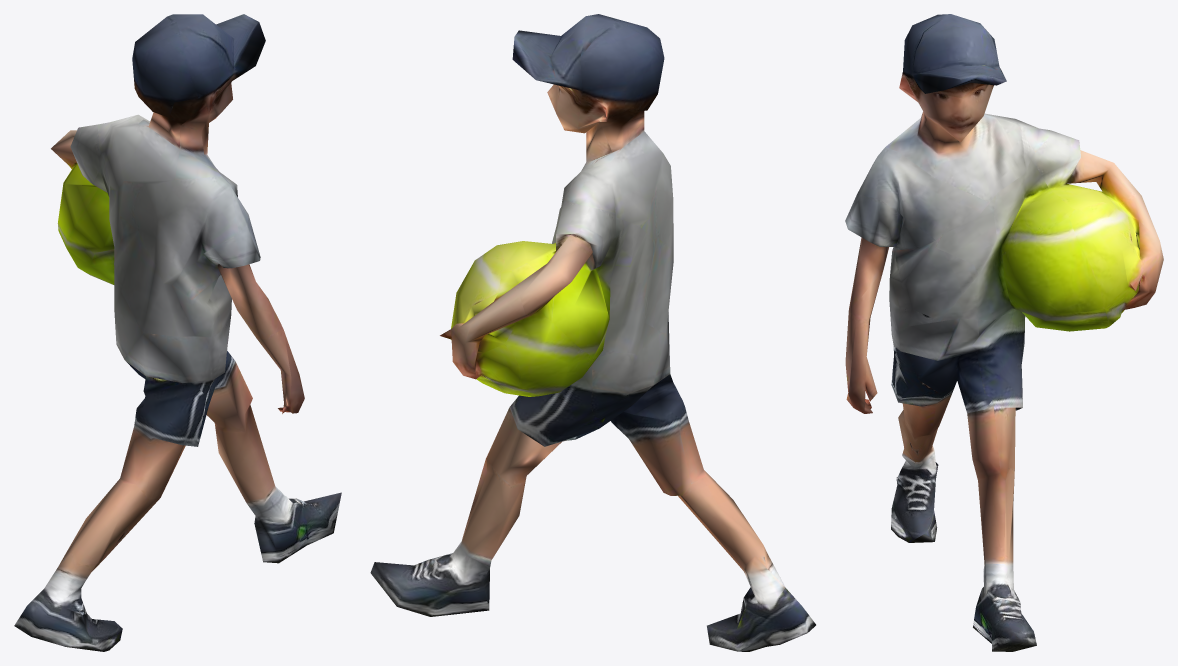
Rendered from besucher_kind.glb.
3 views of the same model, side by side, from view 1: azimuth 30°, elevation 25°; view 2: azimuth 150°, elevation 25°; view 3: azimuth 270°, elevation 25° (orthographic). The views are drawn at different scales.
Parts seen in each view (by area): view 1: tripo_node_6bcb2c90-f340-48ed-8ae0-761a27924ebe; view 2: tripo_node_6bcb2c90-f340-48ed-8ae0-761a27924ebe; view 3: tripo_node_6bcb2c90-f340-48ed-8ae0-761a27924ebe.
Boxes of the visible parts, x1=… form: tripo_node_6bcb2c90-f340-48ed-8ae0-761a27924ebe: x1=14, y1=14, x2=341, y2=651; tripo_node_6bcb2c90-f340-48ed-8ae0-761a27924ebe: x1=370, y1=14, x2=815, y2=651; tripo_node_6bcb2c90-f340-48ed-8ae0-761a27924ebe: x1=845, y1=14, x2=1163, y2=651.
Size of the model in its own units: 0.6605 by 0.9951 by 0.505.
1 material, 1 textured.
